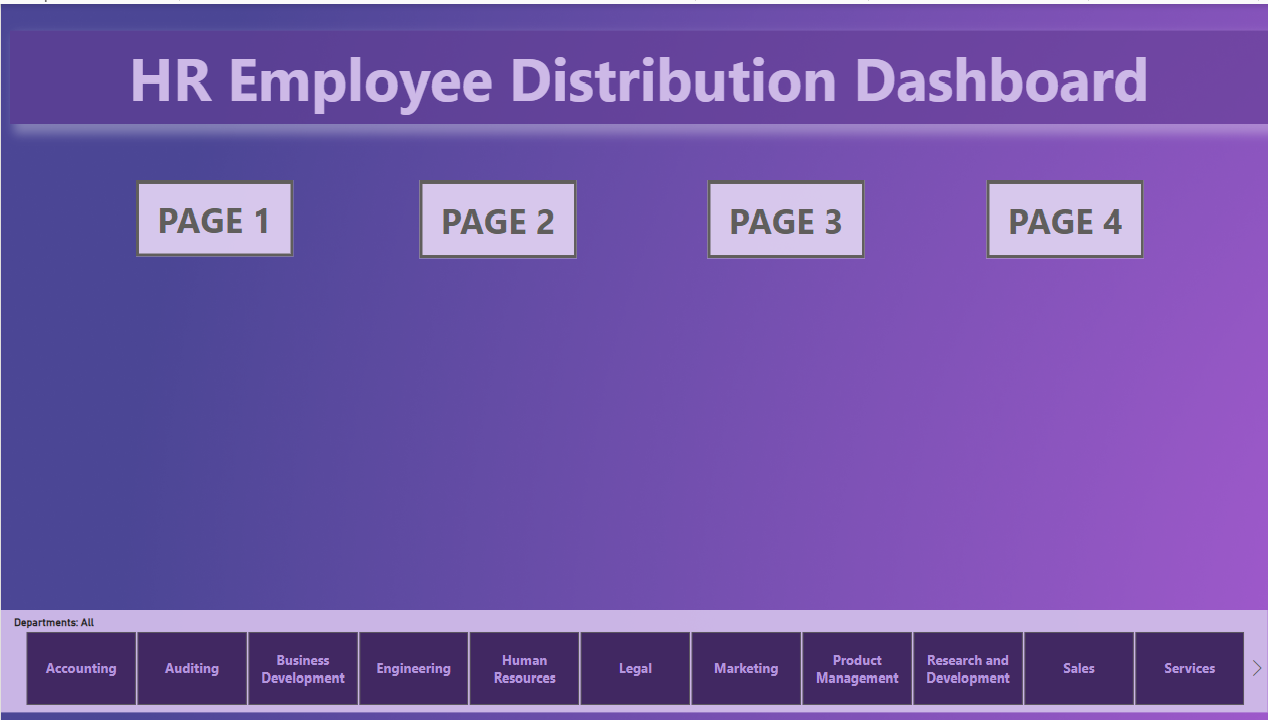

The page's visual inventory and layout, read from the dashboard file:
{"tool":"powerbi","page":{"name":"Page 1","canvas":[1280,720],"ordinal":0},"visuals":[{"type":"textbox","box":[9.4,26.5,1269.9,91],"z":0},{"type":"actionButton","box":[136.3,172.6,159,74.2],"z":1000},{"type":"slicer","fields":{"Values":["hr.department"]},"box":[0,593.7,1279,99.5],"z":2000},{"type":"actionButton","box":[422.5,172.6,159,75.7],"z":2001},{"type":"actionButton","box":[713.2,172.6,159,75.7],"z":2002},{"type":"actionButton","box":[994.8,172.6,159,75.7],"z":2003}]}

Visuals, with their boxes on the page's 1280x720 design canvas (x1, y1, x2, y2). These are canvas units, not pixel positions in the 1268x720 screenshot, which may show the page scaled, cropped or inside an application window:
textbox: BBox(9, 26, 1279, 118)
actionButton: BBox(136, 173, 295, 247)
slicer - hr.department: BBox(0, 594, 1279, 693)
actionButton: BBox(422, 173, 582, 248)
actionButton: BBox(713, 173, 872, 248)
actionButton: BBox(995, 173, 1154, 248)
